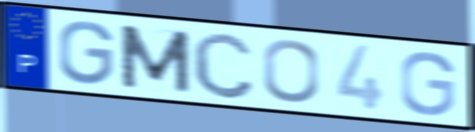4: (333, 42, 387, 114)
C: (189, 29, 258, 101)
G: (56, 18, 117, 87), (397, 49, 457, 118)
M: (116, 22, 194, 96)
O: (260, 37, 321, 105)
